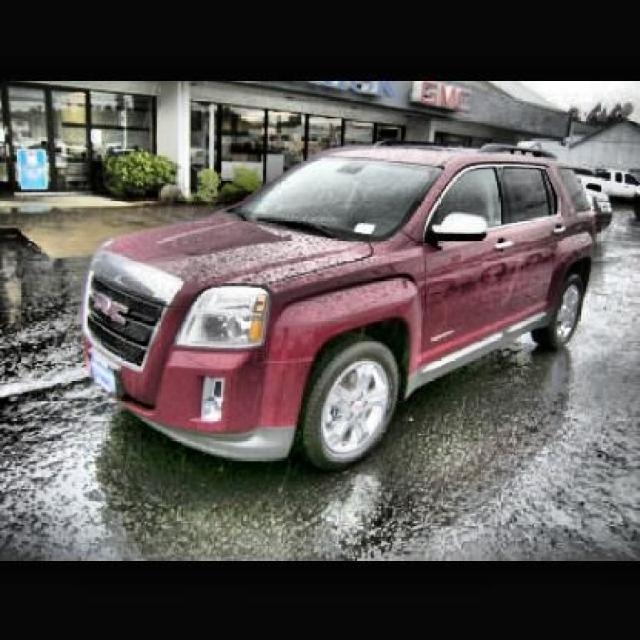maroon: (85, 142, 596, 472)
